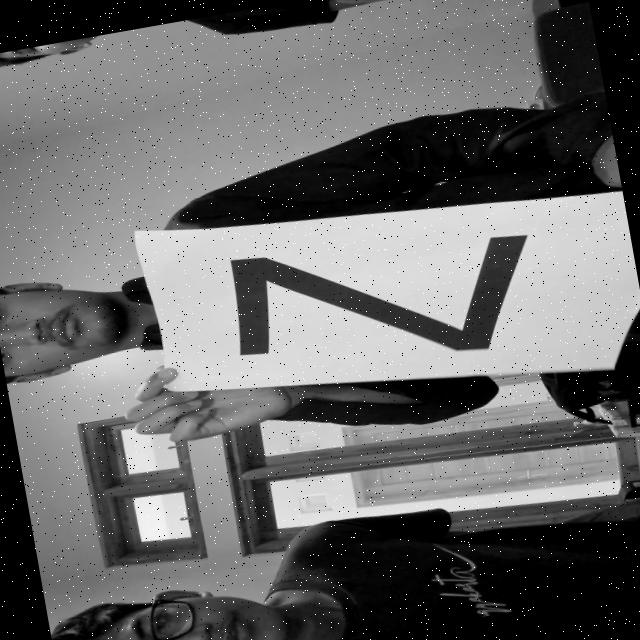z: (204, 178, 564, 402)
